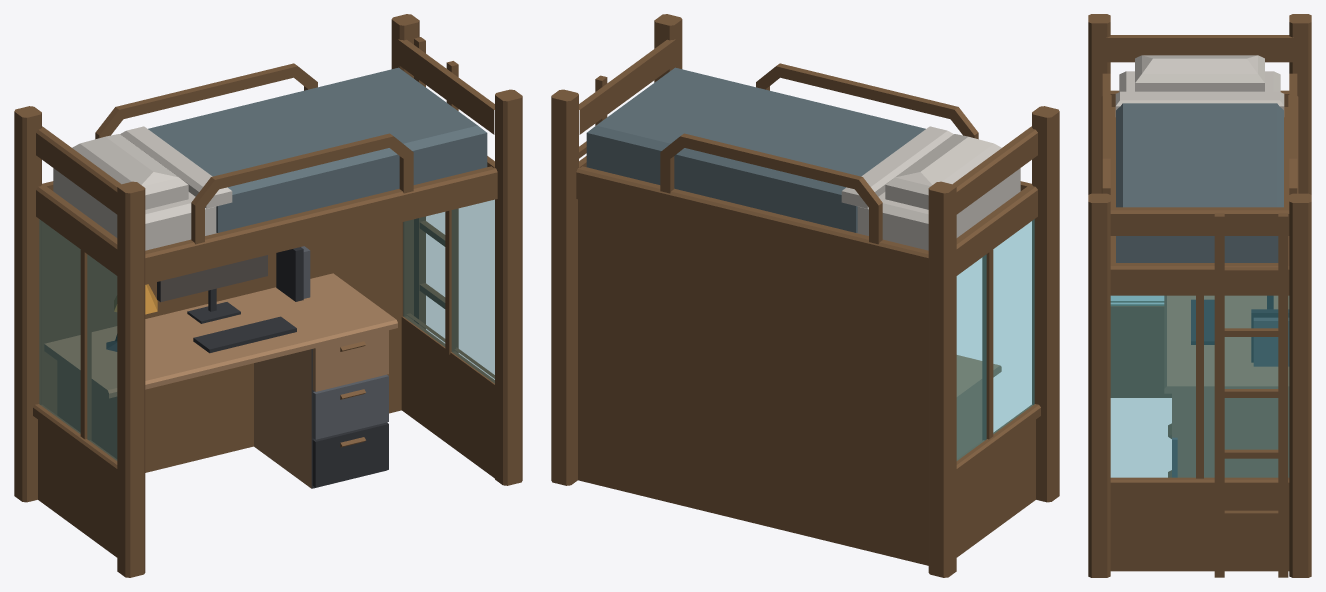
Rendered from dorm-loft-bed-with-a094e7.glb.
3 renders of one model, left to right at view 1: azimuth 30°, elevation 25°; view 2: azimuth 150°, elevation 25°; view 3: azimuth 270°, elevation 25°, orthographic. The views are drawn at different scales.
Parts seen in each view (by area): view 1: loft-frame, bedding-mesh, end-glazing, dressing-mesh, drawer-1-mesh, drawer-2-mesh, drawer-3-mesh; view 2: loft-frame, bedding-mesh, end-glazing; view 3: loft-frame, bedding-mesh, end-glazing, dressing-mesh, drawer-2-mesh.
Boxes of the visible parts, x1,y1,x2,y2 form: loft-frame: (14, 14, 522, 577); bedding-mesh: (72, 67, 487, 232); end-glazing: (39, 200, 494, 460); dressing-mesh: (106, 246, 310, 353); drawer-1-mesh: (312, 422, 388, 487); drawer-2-mesh: (312, 374, 388, 439); drawer-3-mesh: (312, 330, 388, 391); loft-frame: (551, 14, 1059, 577); bedding-mesh: (586, 67, 1001, 232); end-glazing: (957, 219, 1034, 460); loft-frame: (1088, 14, 1311, 577); bedding-mesh: (1115, 55, 1284, 262); end-glazing: (1110, 295, 1288, 477); dressing-mesh: (1191, 295, 1289, 366); drawer-2-mesh: (1168, 423, 1177, 477).
Bounding box in the file's own units: 2 × 1.85 × 1.
